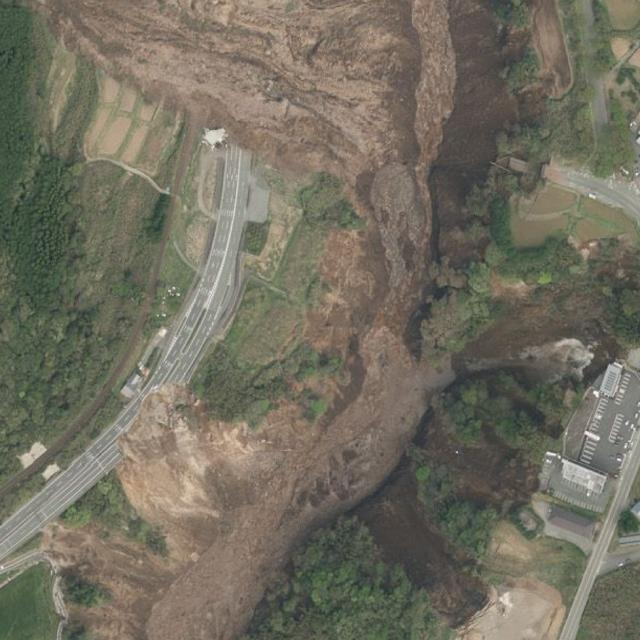landslide: (31, 0, 517, 640)
